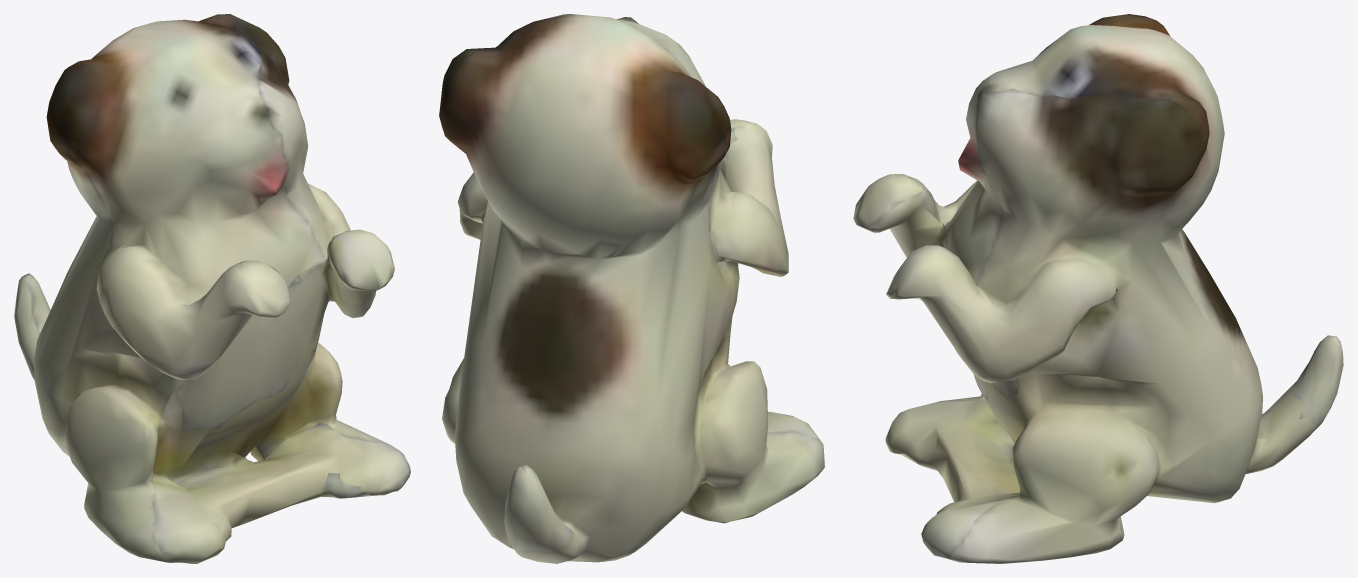
File: Toysmith_Windem_Up_Flippin_Animals_Dog-medium.glb
The picture shows the model from 3 angles, left to right: view 1: azimuth 30°, elevation 25°; view 2: azimuth 150°, elevation 25°; view 3: azimuth 270°, elevation 25°; orthographic projection. The views are drawn at different scales.
Parts seen in each view (by area): view 1: Toysmith_Windem_Up_Flippin_Animals_Dog; view 2: Toysmith_Windem_Up_Flippin_Animals_Dog; view 3: Toysmith_Windem_Up_Flippin_Animals_Dog.
Boxes of the visible parts, x1,y1,x2,y2 form: Toysmith_Windem_Up_Flippin_Animals_Dog: [14, 14, 410, 563]; Toysmith_Windem_Up_Flippin_Animals_Dog: [439, 14, 824, 563]; Toysmith_Windem_Up_Flippin_Animals_Dog: [853, 14, 1343, 563].
Size of the model in its own units: 0.0348 by 0.0499 by 0.0484.
Materials: 1 (1 with a texture image).
